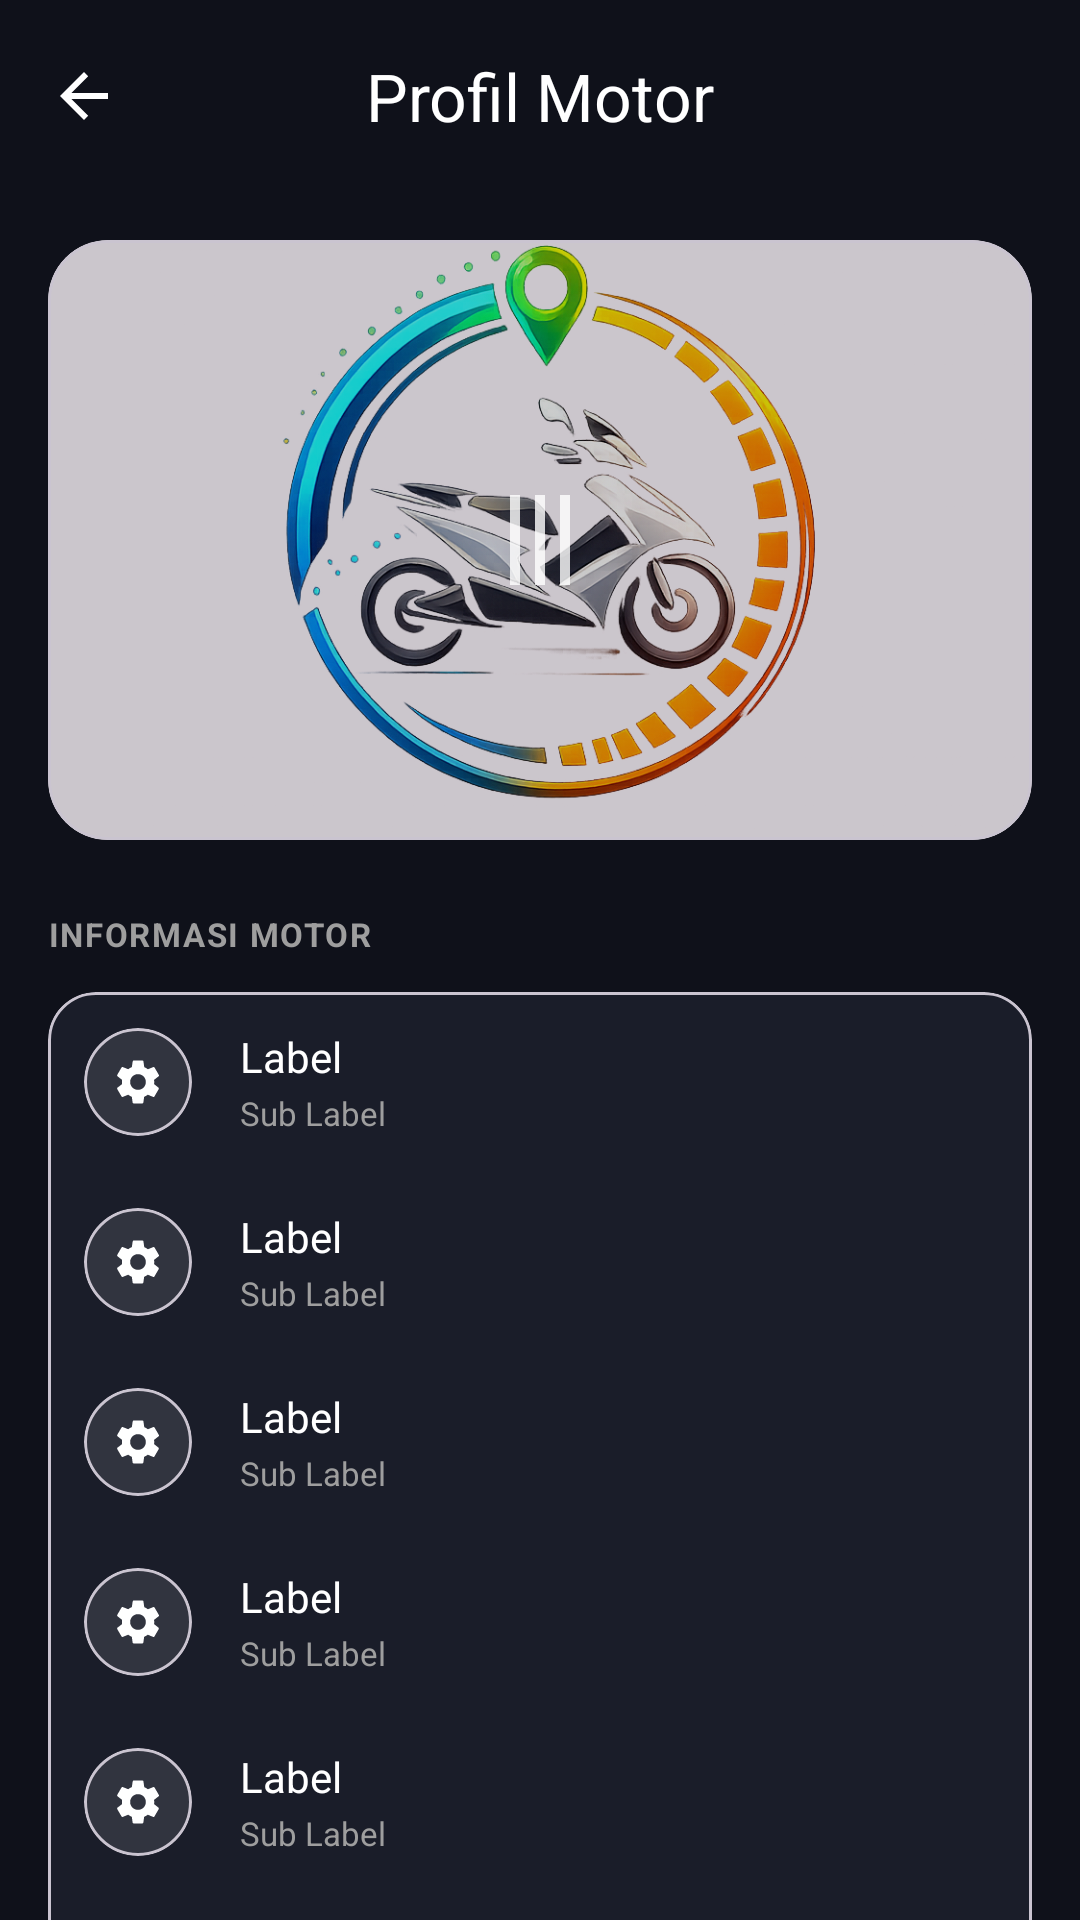

Icon click points for this 1080w x 1920h phone screenshot, format point (x, y):
settings: point (138, 1082), point (138, 1262), point (138, 1442), point (138, 1622), point (138, 1802)
